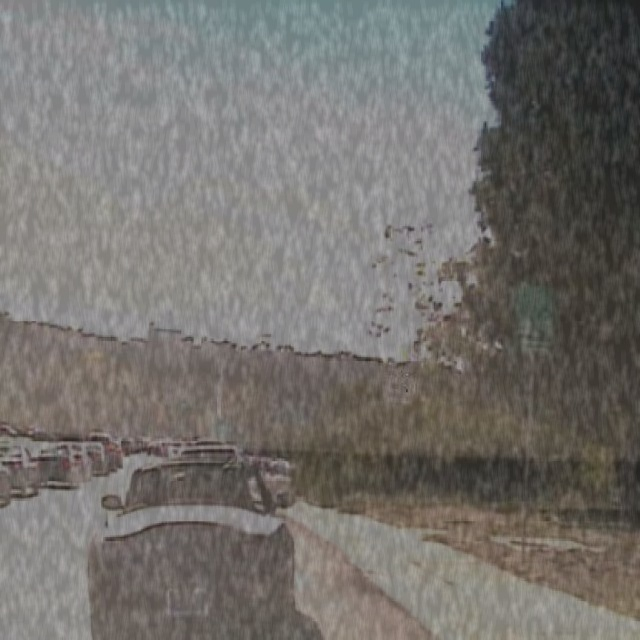rightLaneMustTurn: (383, 363, 413, 405)
